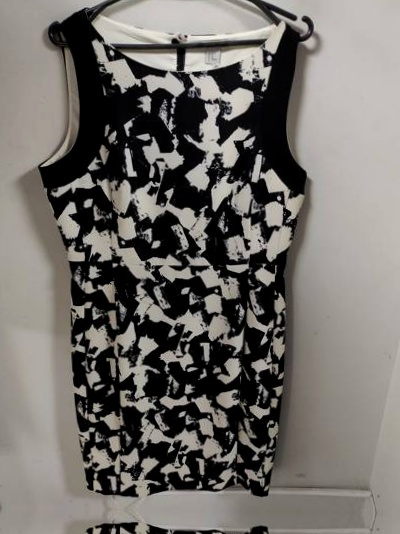Dress: (3, 0, 321, 506), (0, 515, 314, 534)
